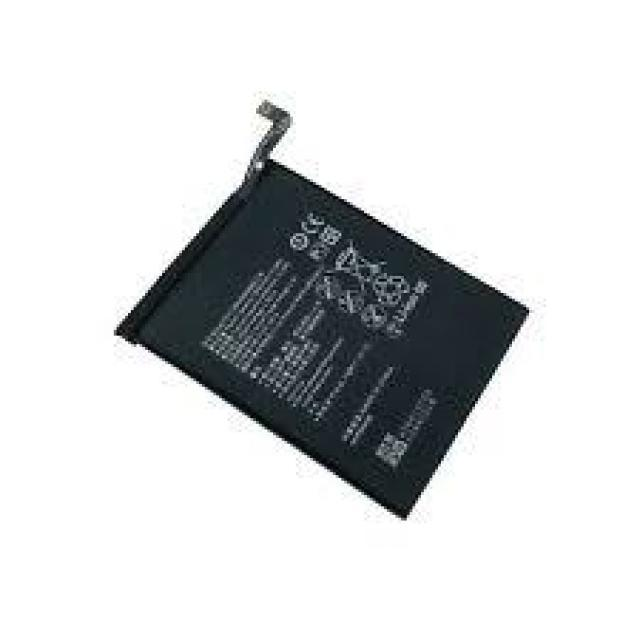battery: (112, 98, 538, 524)
